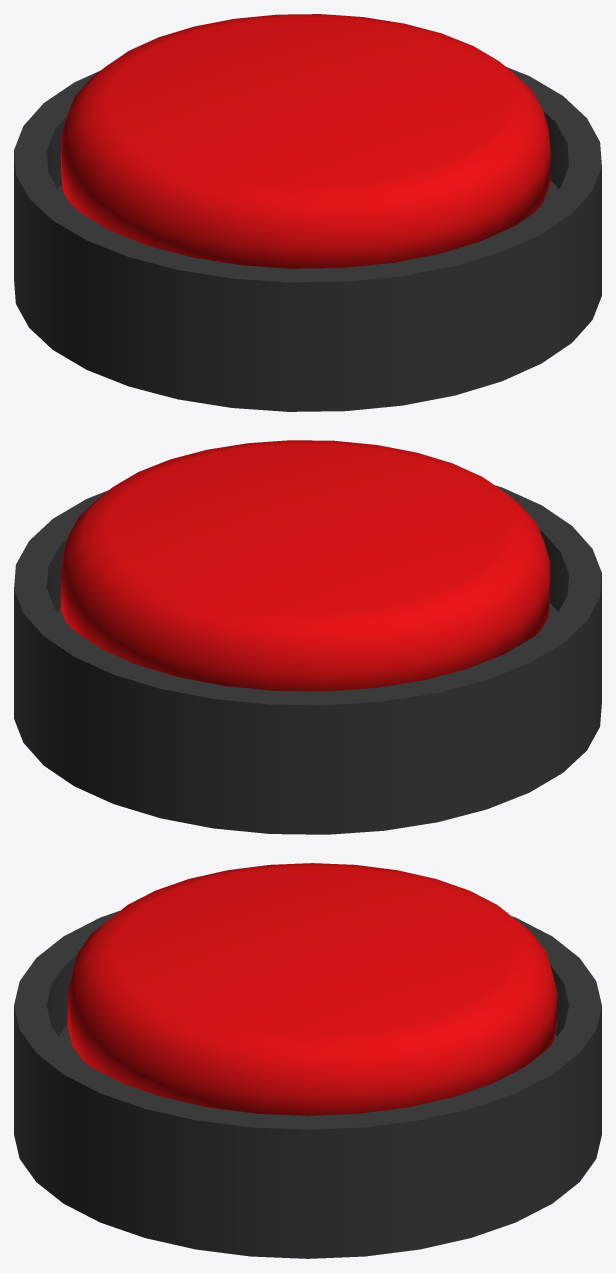
Rendered from buttonred.fbx.
3 views of the same model, one above another, from view 1: azimuth 30°, elevation 25°; view 2: azimuth 150°, elevation 25°; view 3: azimuth 270°, elevation 25° (orthographic).
Parts seen in each view (by area): view 1: Cylinder.001, Cylinder; view 2: Cylinder.001, Cylinder; view 3: Cylinder.001, Cylinder.
Part boxes in pixels (left/top/right/bottom): Cylinder.001: left=61, top=14, right=550, bottom=268; Cylinder: left=14, top=67, right=601, bottom=411; Cylinder.001: left=61, top=440, right=550, bottom=691; Cylinder: left=14, top=485, right=601, bottom=834; Cylinder.001: left=67, top=863, right=557, bottom=1115; Cylinder: left=14, top=911, right=601, bottom=1258.
Bounding box in the file's own units: 56.99 × 19.59 × 56.99.
